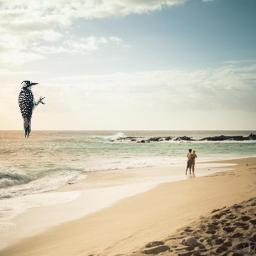Woodpecker: (17, 80, 46, 138)
